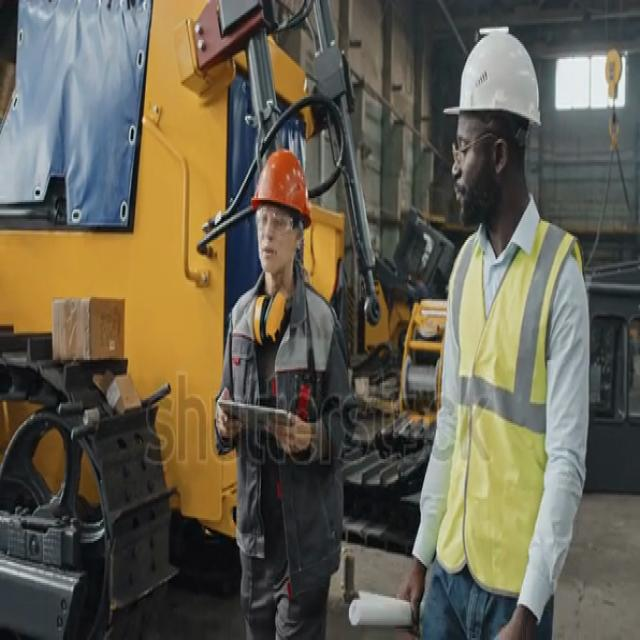goggles: (448, 132, 502, 166), (253, 202, 298, 237)
